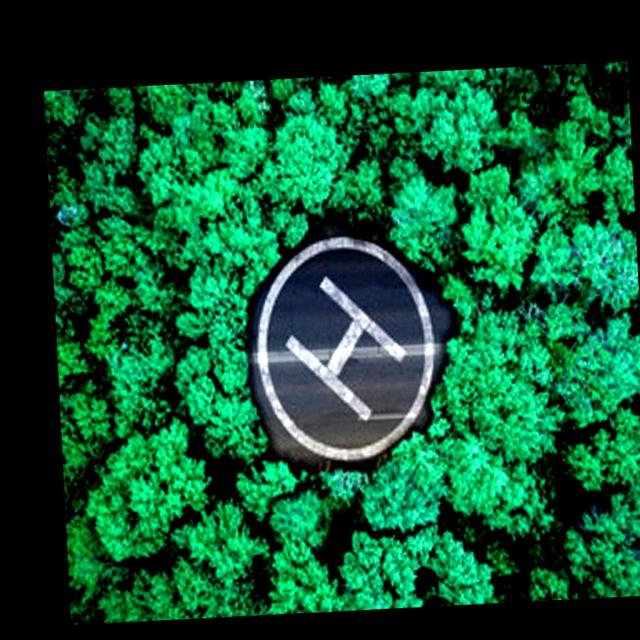helipad: (252, 230, 440, 466)
